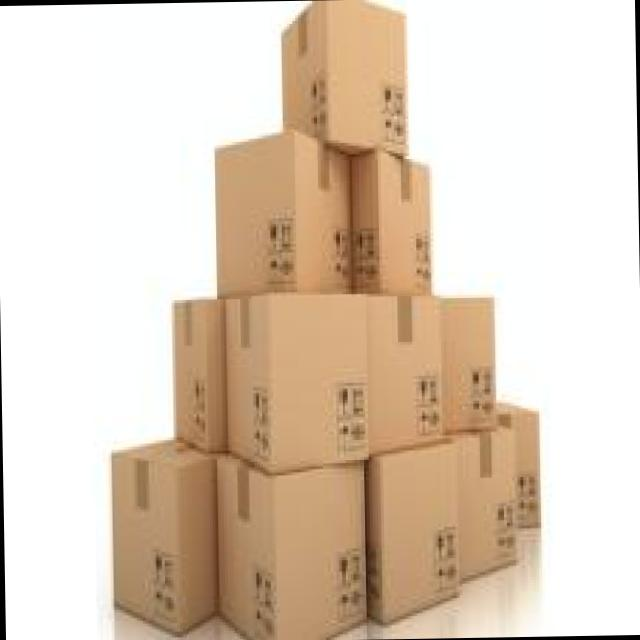box: (82, 65, 516, 557)
